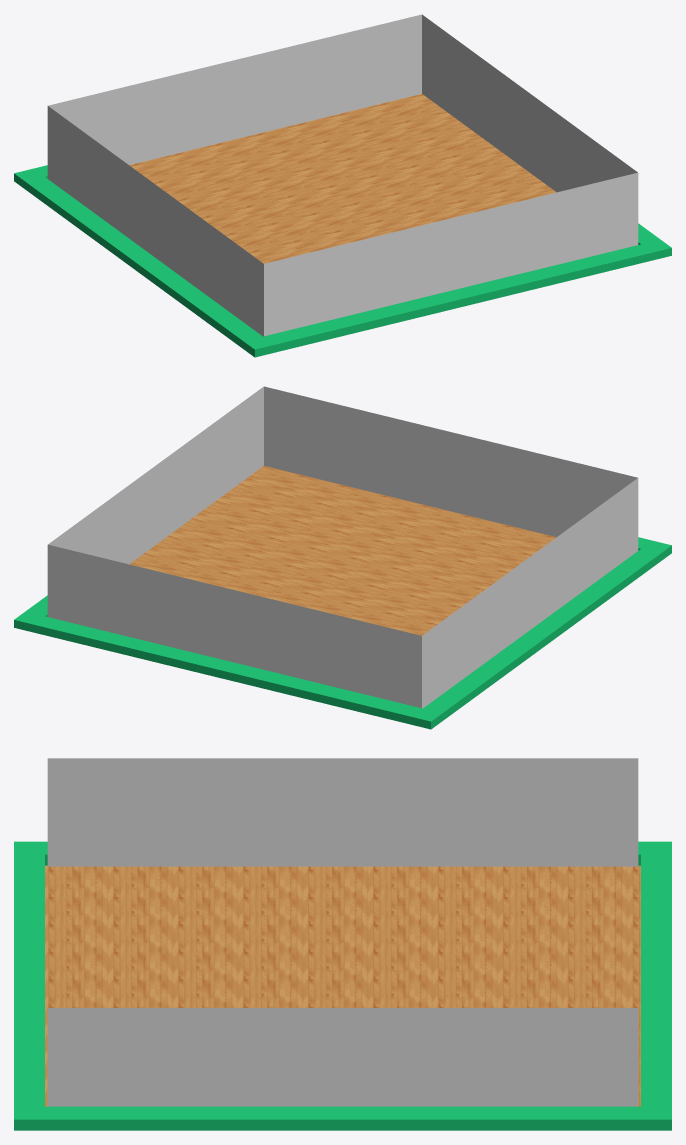
File: Tutorial 1.dae
3 views of the same model, one above another, from view 1: azimuth 30°, elevation 25°; view 2: azimuth 150°, elevation 25°; view 3: azimuth 270°, elevation 25° (orthographic). The views are drawn at different scales.
Parts seen in each view (by area): view 1: Col_Walls-col, Cube, Cube_001; view 2: Col_Walls-col, Cube, Cube_001; view 3: Col_Walls-col, Cube, Cube_001.
Part boxes in pixels (x1,y1,x2,y2): Col_Walls-col: (47,14,638,336); Cube: (129,94,556,263); Cube_001: (14,165,671,357); Col_Walls-col: (47,386,638,708); Cube: (129,466,556,635); Cube_001: (14,537,671,729); Col_Walls-col: (47,758,638,1106); Cube: (45,865,640,1106); Cube_001: (14,841,671,1130).
Bounding box in the file's own units: 110 × 110 × 20.21.
2 materials, 1 textured.
